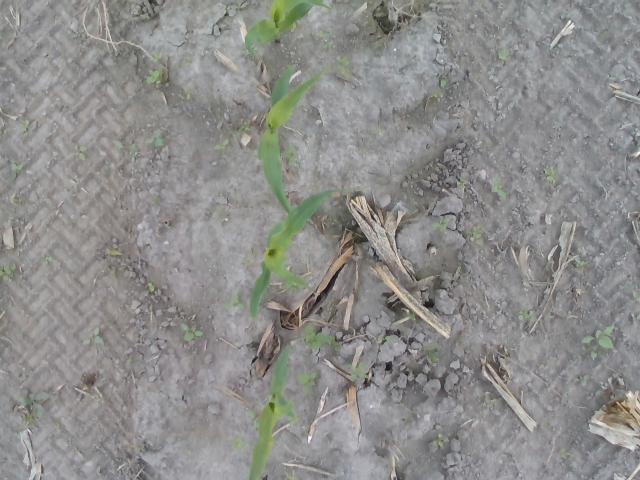Maize: (250, 184, 354, 320), (258, 62, 322, 228), (247, 348, 295, 480), (244, 0, 331, 64)
Weeds: (579, 321, 623, 361), (11, 389, 49, 426), (303, 324, 340, 352), (224, 288, 247, 320), (296, 370, 320, 395), (179, 320, 207, 341), (80, 326, 105, 348), (343, 361, 369, 382), (144, 127, 168, 147), (336, 54, 354, 80), (424, 344, 442, 368), (491, 174, 506, 202), (142, 66, 162, 86), (462, 226, 482, 246), (624, 286, 640, 310), (318, 30, 337, 49), (321, 7, 353, 18), (230, 430, 248, 449), (0, 263, 17, 283), (212, 134, 232, 151), (282, 143, 298, 163), (542, 164, 558, 184), (232, 120, 254, 134), (9, 159, 23, 181), (73, 144, 89, 162), (433, 432, 449, 449), (431, 218, 448, 233), (496, 48, 511, 64), (518, 308, 538, 320), (114, 142, 138, 152), (574, 260, 594, 271), (574, 374, 592, 386), (559, 448, 575, 460), (150, 50, 161, 64), (281, 283, 302, 290), (284, 471, 300, 480), (608, 72, 624, 81), (17, 118, 31, 128), (288, 416, 300, 426), (222, 0, 230, 15), (432, 92, 444, 102), (407, 312, 418, 322), (438, 78, 449, 88), (384, 335, 395, 345), (147, 280, 156, 292), (184, 88, 192, 101), (245, 410, 258, 418), (374, 128, 384, 138), (615, 387, 625, 397), (456, 178, 465, 188), (290, 23, 300, 31), (238, 15, 246, 23), (236, 2, 240, 12)
